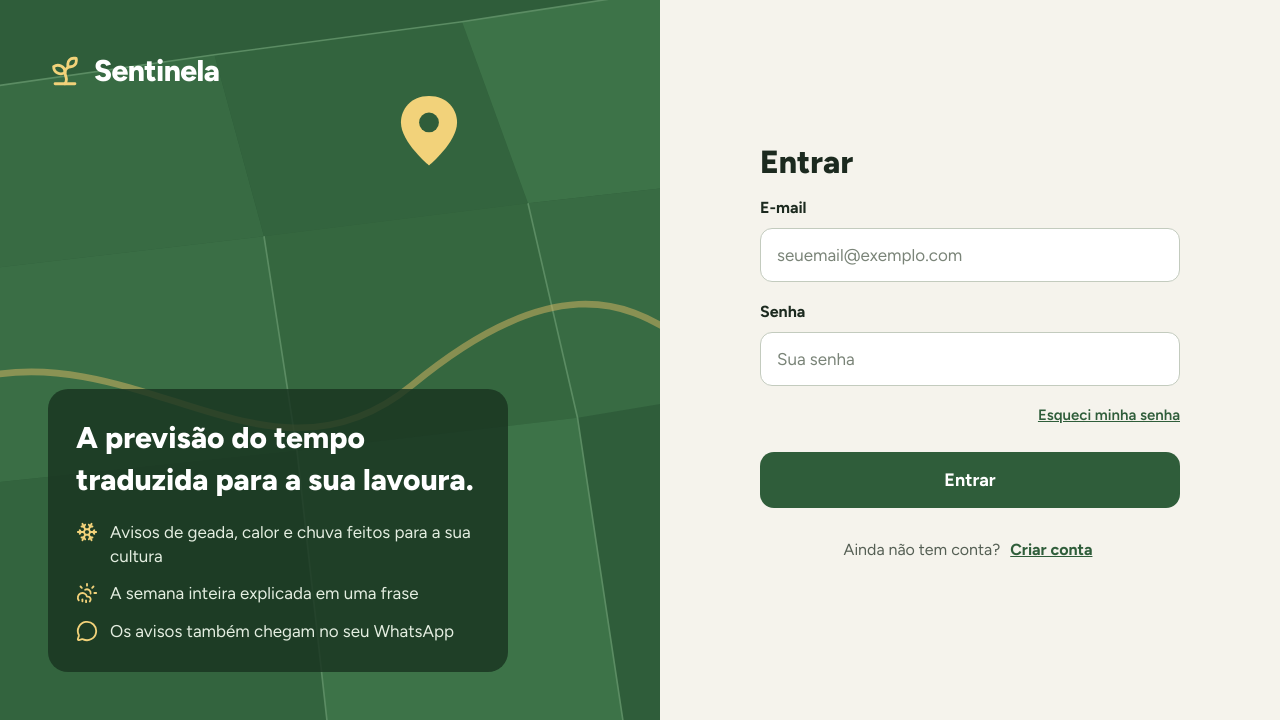
it: Entrar › com e-mail e senha certos, guarda o token e abre o painel
Check: the heading "Entrar" is shown, box [760,143,853,181]
Type "joao@exemplo.com" into the field labelled "E-mail".
click(970, 255); type("joao@exemplo.com")  # box [760,228,1180,282]
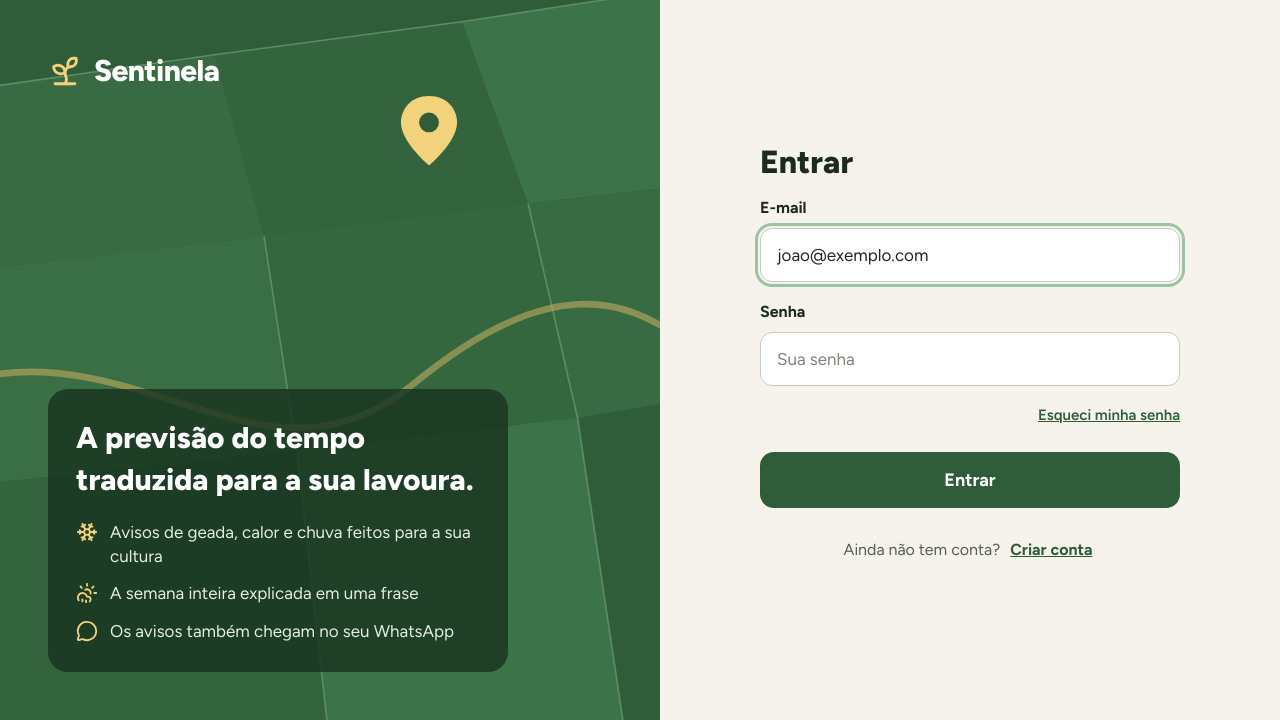
Type "123456" into the password field labelled "Senha".
click(970, 359); type("123456")  # box [760,332,1180,386]
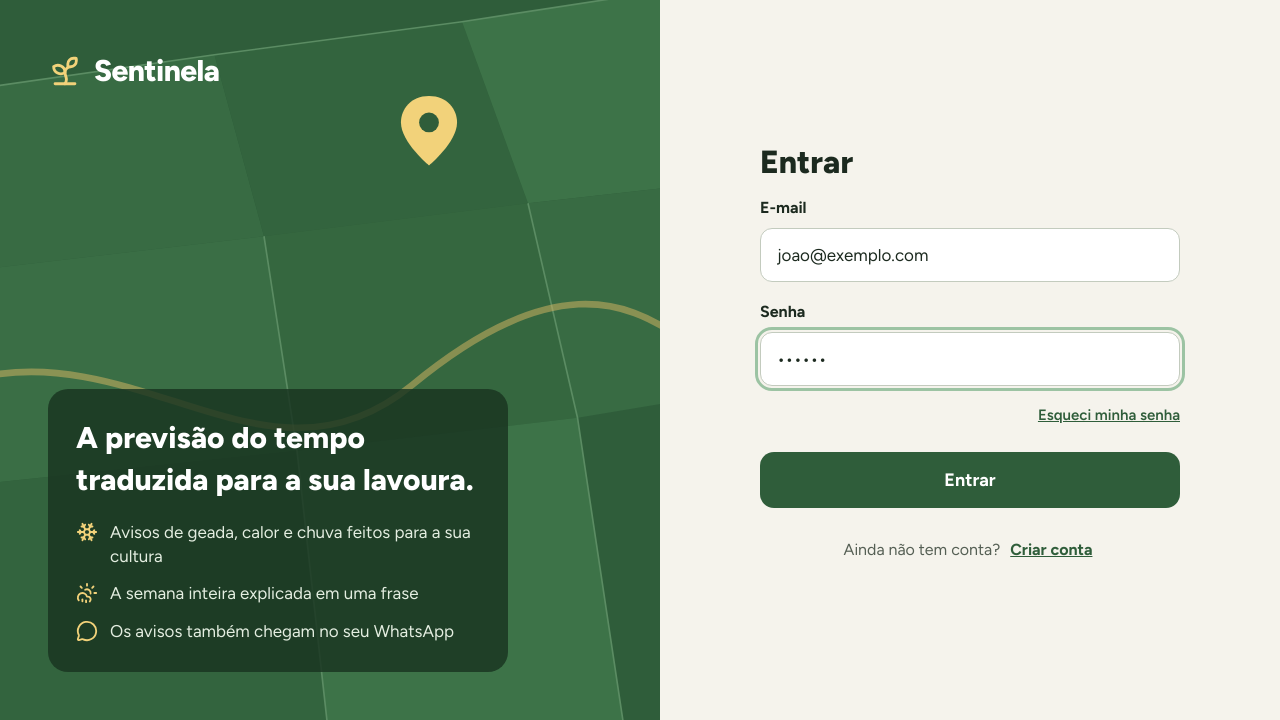
Click the button "Entrar".
click(970, 480)  # box [760,452,1180,508]
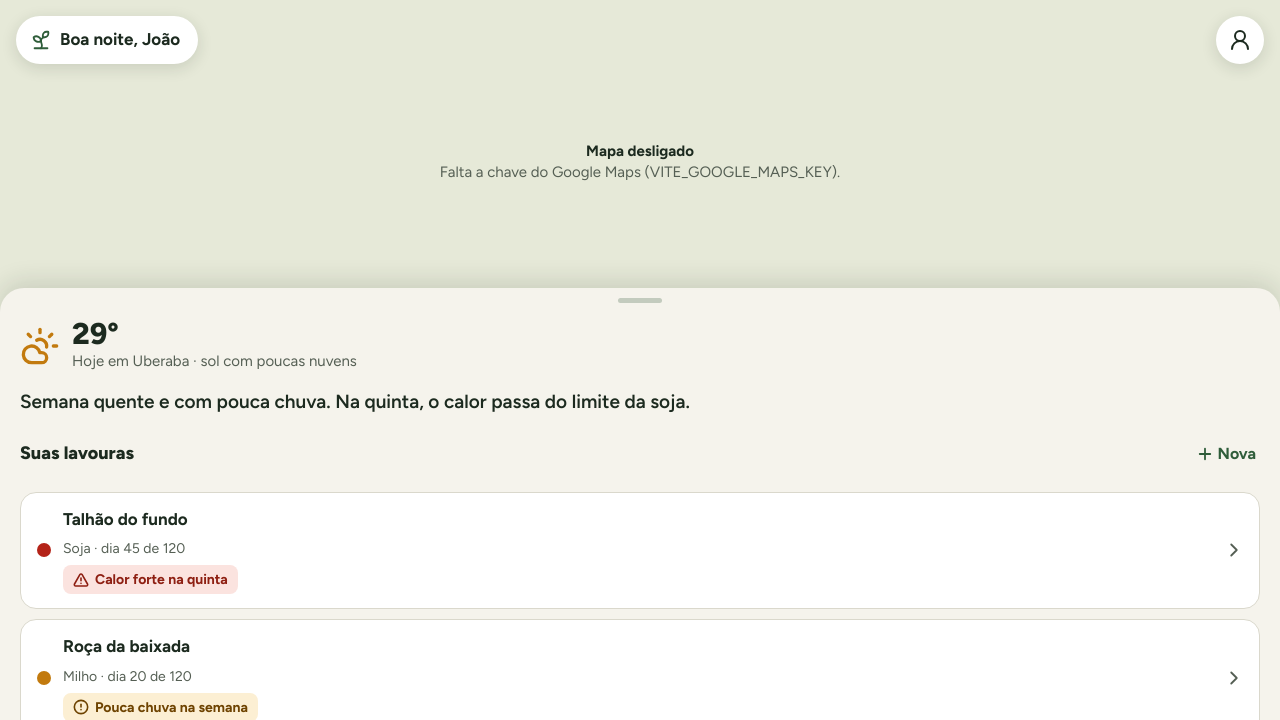
Check: the heading "Boa noite, João" is shown, box [16,16,198,64]
